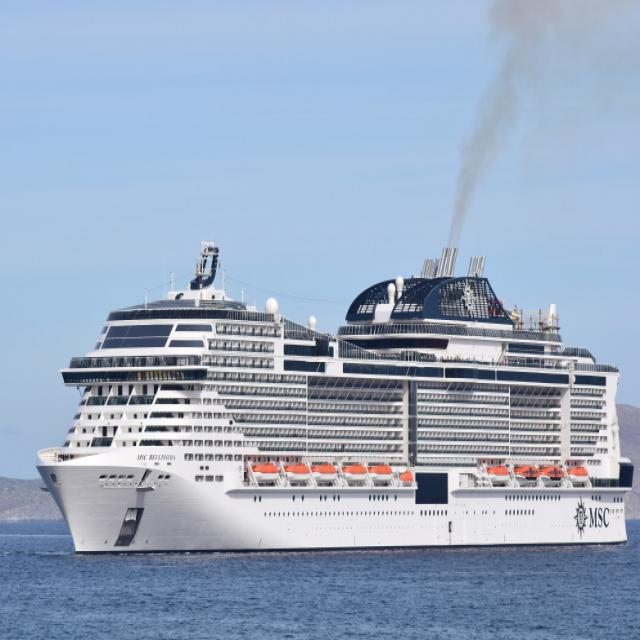cruises: (33, 238, 639, 561)
